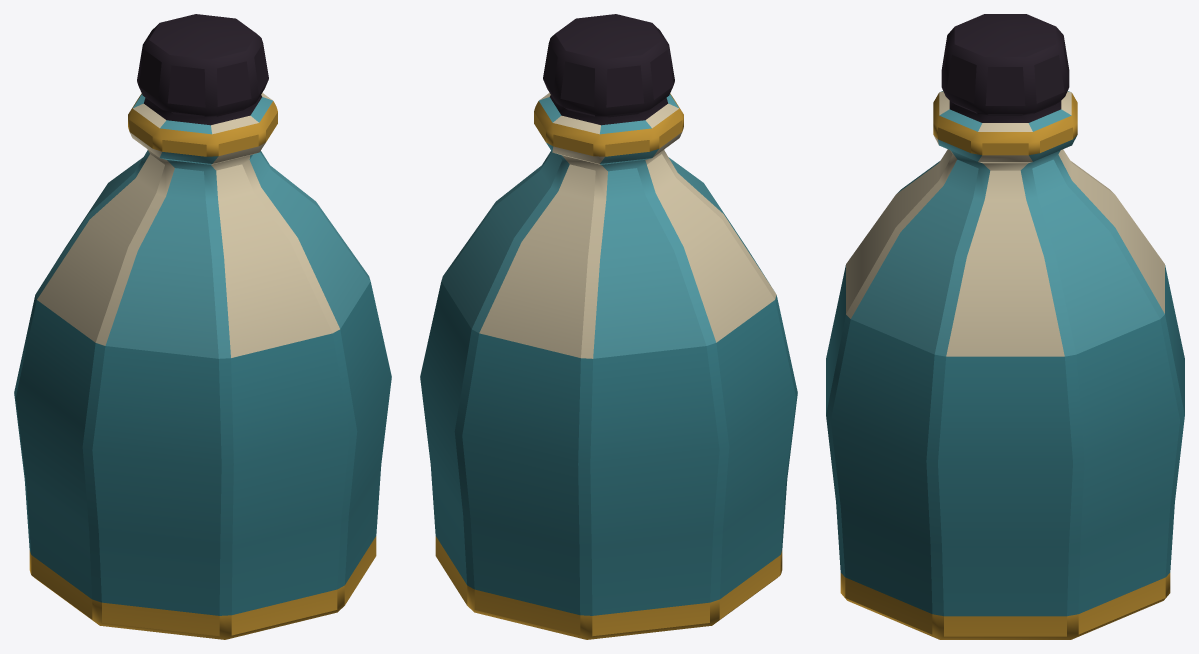
File: Bottle_16.glb
3 renders of one model, left to right at view 1: azimuth 30°, elevation 25°; view 2: azimuth 150°, elevation 25°; view 3: azimuth 270°, elevation 25°, orthographic.
Parts seen in each view (by area): view 1: Bottle_16; view 2: Bottle_16; view 3: Bottle_16.
Part boxes in pixels (x1=…): Bottle_16: x1=14, y1=14, x2=391, y2=639; Bottle_16: x1=420, y1=14, x2=797, y2=639; Bottle_16: x1=826, y1=14, x2=1184, y2=639.
Size of the model in its own units: 1.35 by 2.26 by 1.35.
